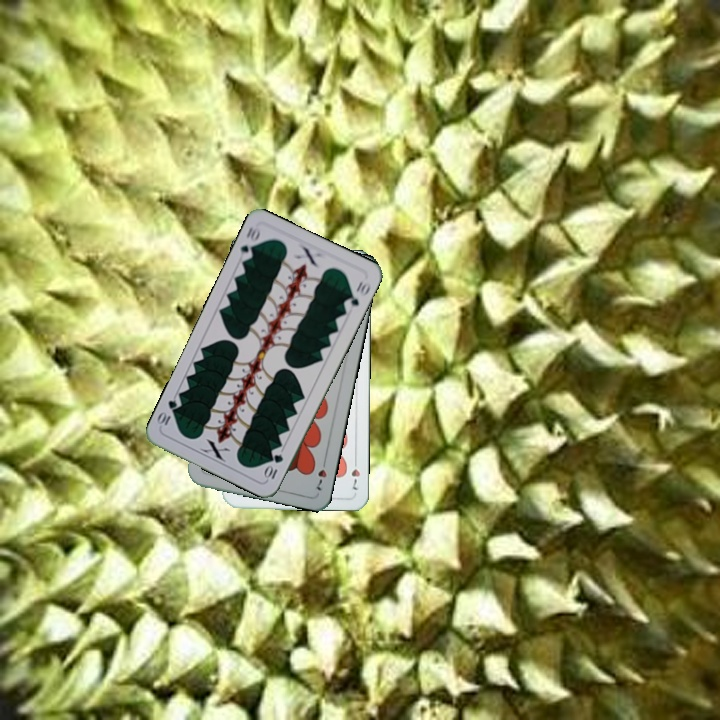G10: (235, 222, 263, 263), (261, 450, 286, 483)
H7: (312, 454, 329, 493), (347, 454, 362, 492)
